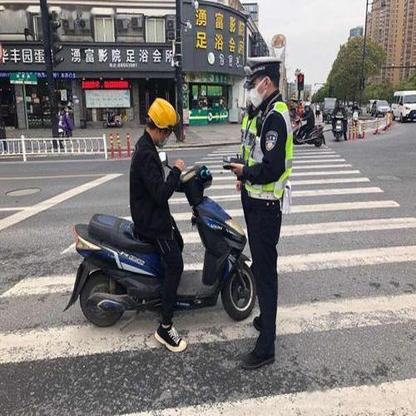target: (61, 95, 255, 327)
